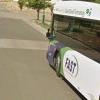Bus: (44, 1, 100, 100)
